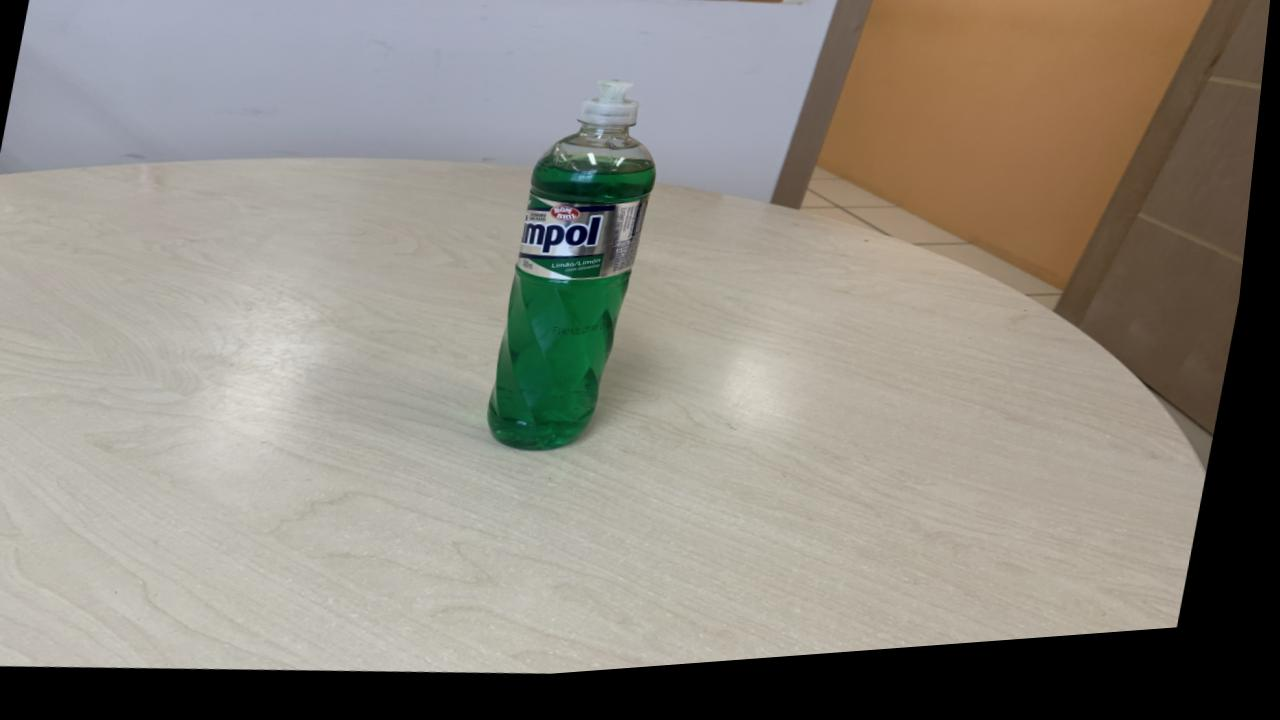Detergent-Cleanup_Items: (495, 92, 661, 463)
